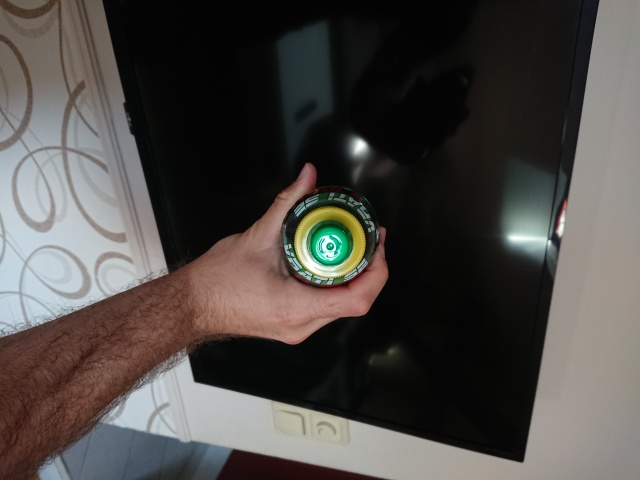Vindi Iso Sport Lemon-Grapefruit 500mL: (277, 182, 383, 291)
